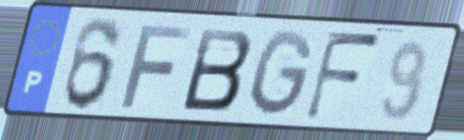6: (60, 14, 124, 114)
9: (379, 37, 434, 123)
B: (178, 25, 256, 114)
F: (300, 27, 384, 124), (117, 21, 195, 111)
G: (247, 27, 316, 120)
